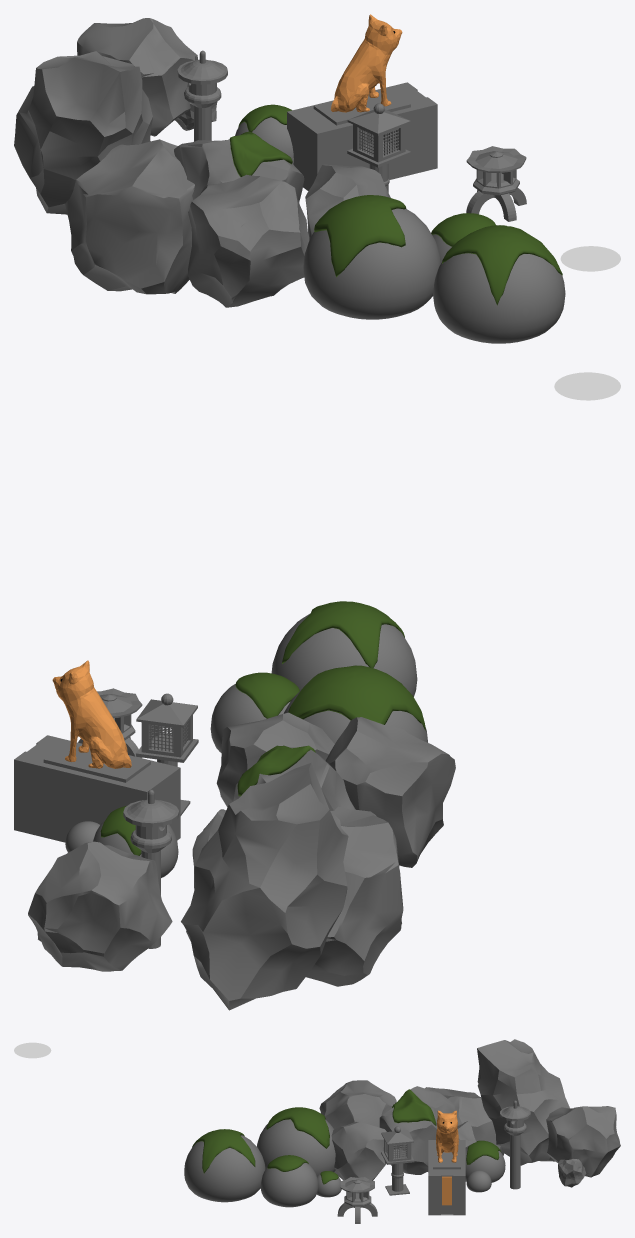
Rendered from JJ Garden Props V6.fbx.
3 views of the same model, one above another, from view 1: azimuth 30°, elevation 25°; view 2: azimuth 150°, elevation 25°; view 3: azimuth 270°, elevation 25° (orthographic). The views are drawn at different scales.
Parts seen in each view (by area): view 1: Sharp Rock, Sharp Rock 6, Sharp Rock 5, Dog Statue, Round Rock.003, Round Rock, Sharp Rock 4, Moss.002, Moss.005, Sharp Rock 1, Short Stone Lantern, Cubic Stone Lantern (+7 smaller); view 2: Sharp Rock 6, Dog Statue, Sharp Rock 4, Sharp Rock 5, Sharp Rock, Moss.002, Round Rock, Sharp Rock 7, Moss.005, Cubic Stone Lantern, Round Stone Lantern, Moss.006 (+7 smaller); view 3: Sharp Rock 6, Sharp Rock 4, Round Rock, Dog Statue, Sharp Rock 7, Sharp Rock 5, Round Rock.003, Sharp Rock 1, Round Rock.001, Sharp Rock, Cubic Stone Lantern, Round Stone Lantern (+12 smaller).
Boxes of the visible parts, <box> form: Sharp Rock: <box>65,139,194,294</box>; Sharp Rock 6: <box>14,51,152,214</box>; Sharp Rock 5: <box>188,174,309,307</box>; Dog Statue: <box>287,14,437,190</box>; Round Rock.003: <box>303,208,440,319</box>; Round Rock: <box>433,253,565,343</box>; Sharp Rock 4: <box>77,18,198,136</box>; Moss.002: <box>314,195,406,277</box>; Moss.005: <box>442,225,562,305</box>; Sharp Rock 1: <box>174,139,304,202</box>; Short Stone Lantern: <box>466,146,526,221</box>; Cubic Stone Lantern: <box>347,103,410,192</box>; Sharp Rock 6: <box>181,763,348,1010</box>; Dog Statue: <box>14,660,180,842</box>; Sharp Rock 4: <box>28,841,172,971</box>; Sharp Rock 5: <box>325,717,455,867</box>; Sharp Rock: <box>306,806,403,986</box>; Moss.002: <box>288,665,425,730</box>; Round Rock: <box>271,613,417,696</box>; Sharp Rock 7: <box>216,712,334,807</box>; Moss.005: <box>282,601,404,667</box>; Cubic Stone Lantern: <box>136,693,198,815</box>; Round Stone Lantern: <box>123,789,179,948</box>; Moss.006: <box>235,672,299,718</box>; Sharp Rock 6: <box>477,1039,569,1165</box>; Sharp Rock 4: <box>546,1106,620,1177</box>; Round Rock: <box>184,1135,265,1202</box>; Dog Statue: <box>428,1110,465,1215</box>; Sharp Rock 7: <box>331,1122,386,1180</box>; Sharp Rock 5: <box>319,1080,396,1129</box>; Round Rock.003: <box>257,1119,335,1175</box>; Sharp Rock 1: <box>379,1086,455,1174</box>; Round Rock.001: <box>260,1163,318,1207</box>; Sharp Rock: <box>425,1087,504,1181</box>; Cubic Stone Lantern: <box>381,1126,414,1195</box>; Round Stone Lantern: <box>500,1100,530,1189</box>.
Bounding box in the file's own units: 1400 × 939 × 3257.
